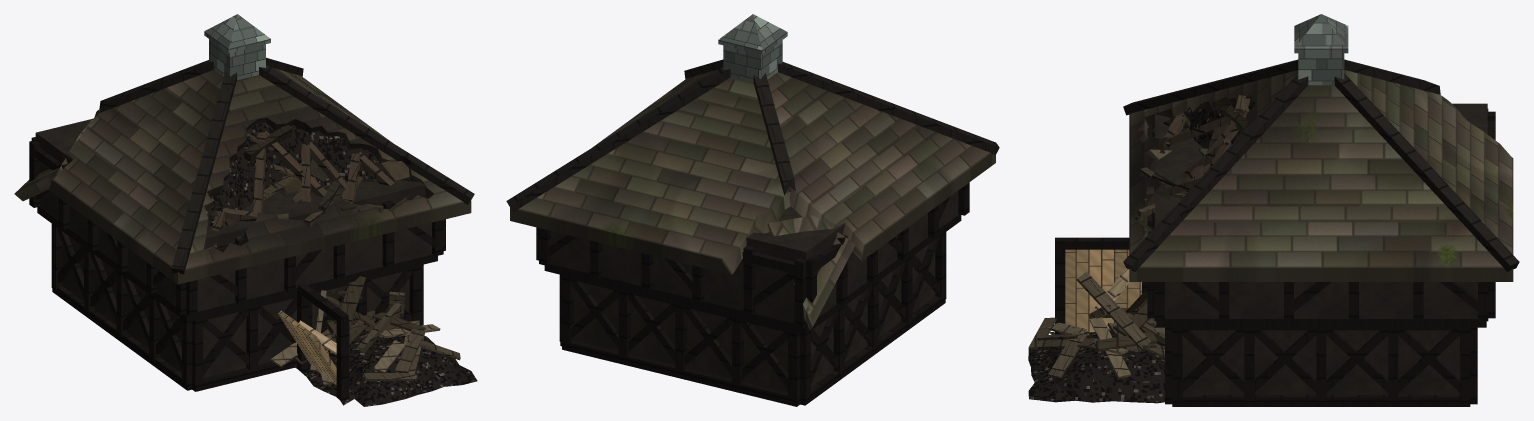
File: Arabuild03a.glb
3 views of the same model, side by side, from view 1: azimuth 30°, elevation 25°; view 2: azimuth 150°, elevation 25°; view 3: azimuth 270°, elevation 25° (orthographic). The views are drawn at different scales.
Visible parts, largest first — view 1: Arabuild03a_char; view 2: Arabuild03a_char; view 3: Arabuild03a_char.
Boxes of the visible parts, box(x1,y1,x2,y2) form: Arabuild03a_char: box(14, 14, 477, 406); Arabuild03a_char: box(506, 14, 999, 406); Arabuild03a_char: box(1028, 14, 1519, 406).
Bounding box in the file's own units: 7.55 × 7.1 × 9.59.
21 materials, 21 textured.
